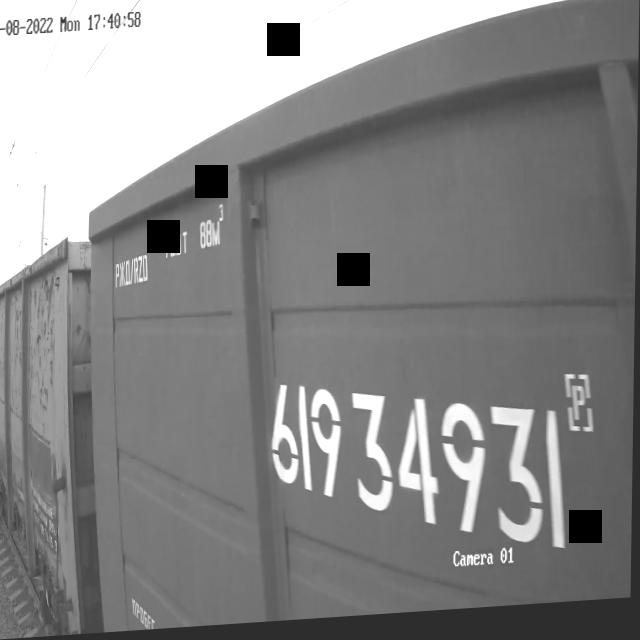gondola: (81, 0, 639, 635), (0, 226, 104, 640)
